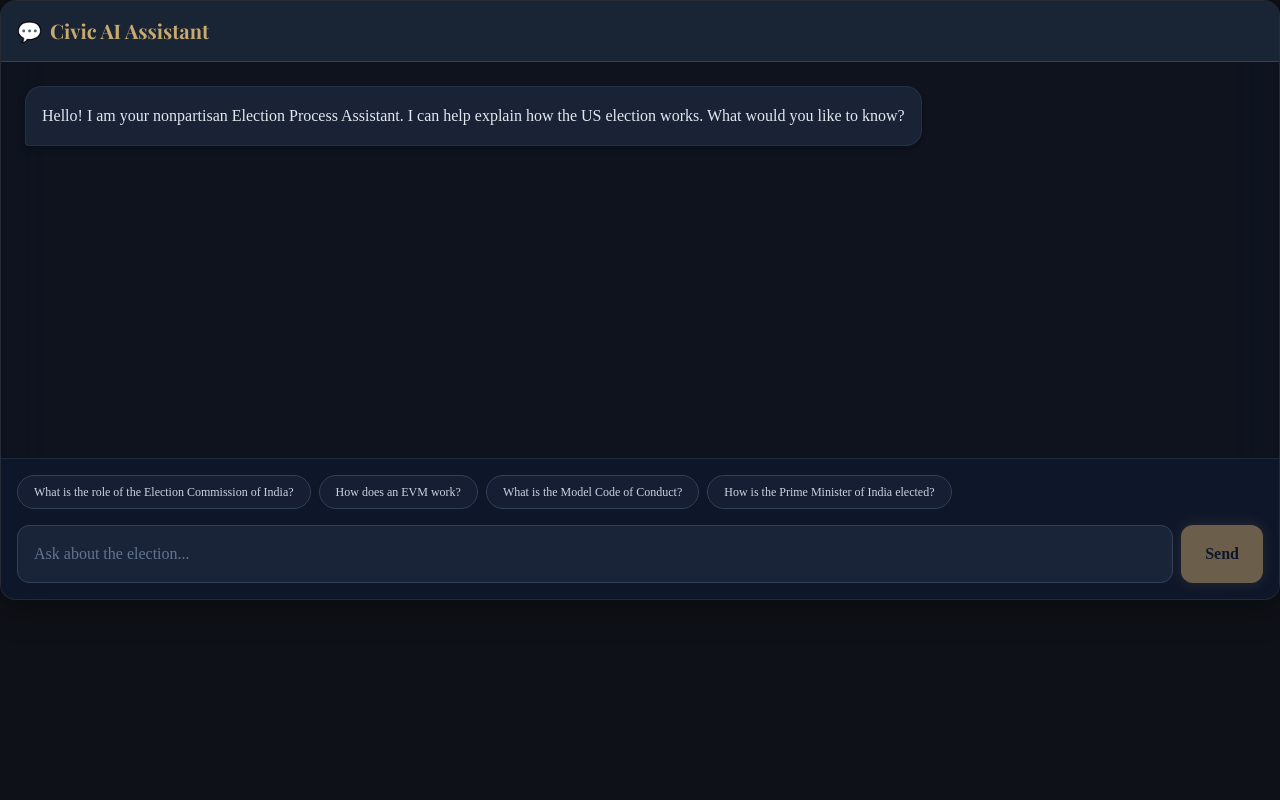
Test: Chat Component › sends a message when Enter key is pressed
The image size is (1280, 800).
Type "How are elections held?" into the field with placeholder "Ask about the election...". click: [595, 554]
box: [17,525,1173,583]
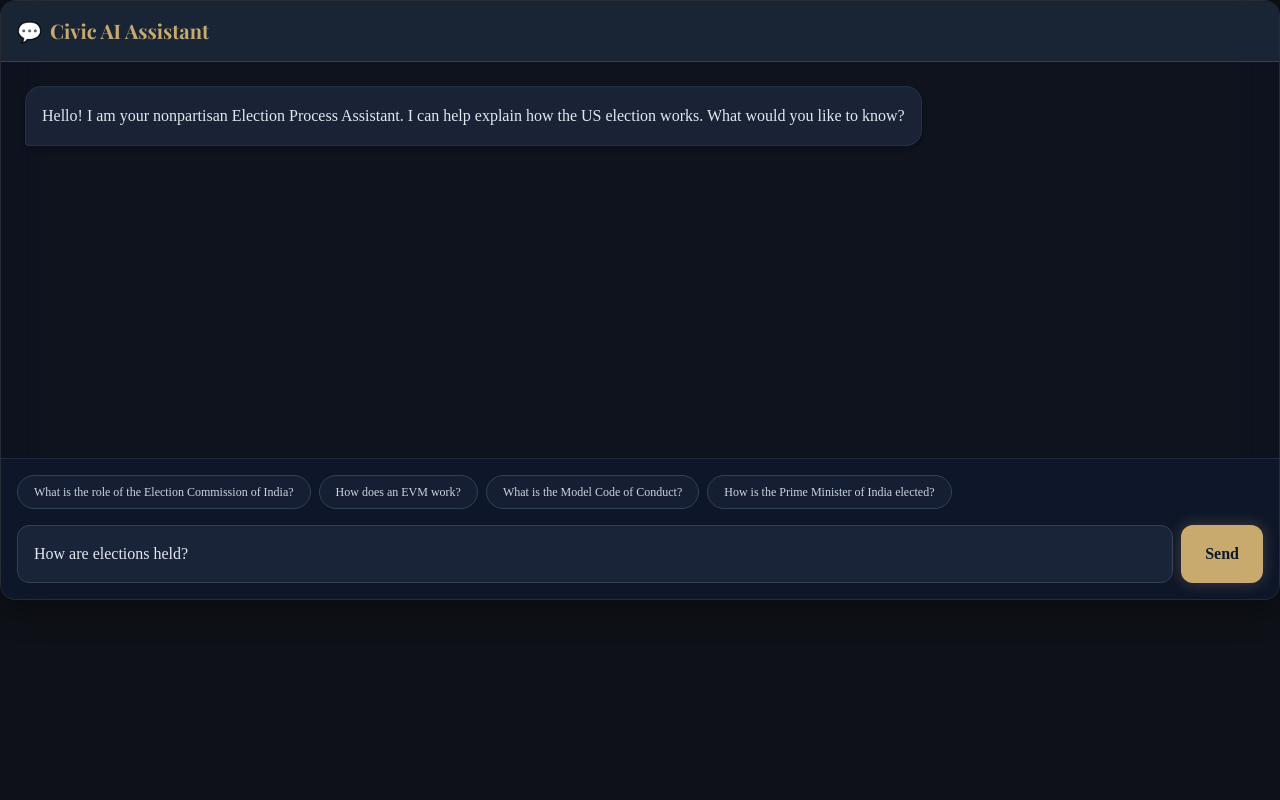
Press Enter in the field with placeholder "Ask about the election...", box [17,525,1173,583]
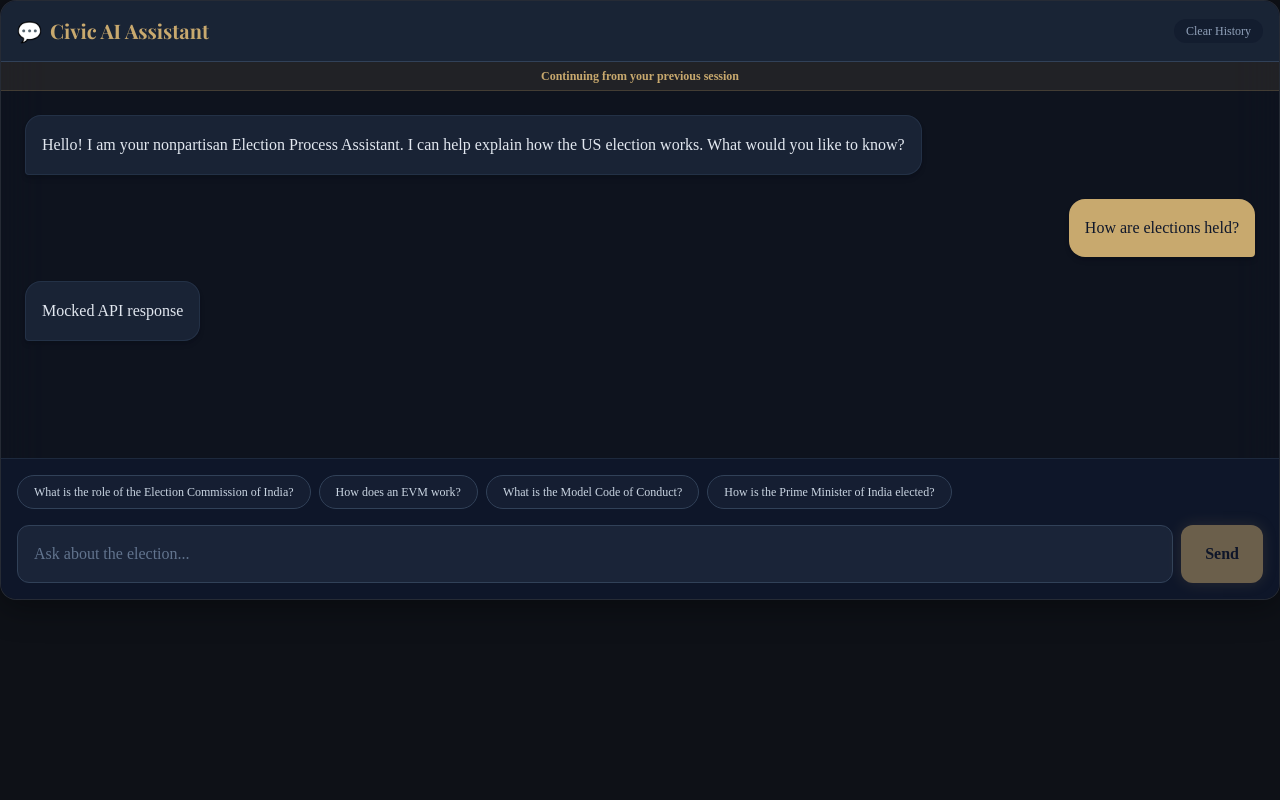
Expected: the text "How are elections held?" is shown, [1069,199,1255,257]
Expected: the text "Mocked API response" is shown, [25,281,200,341]
